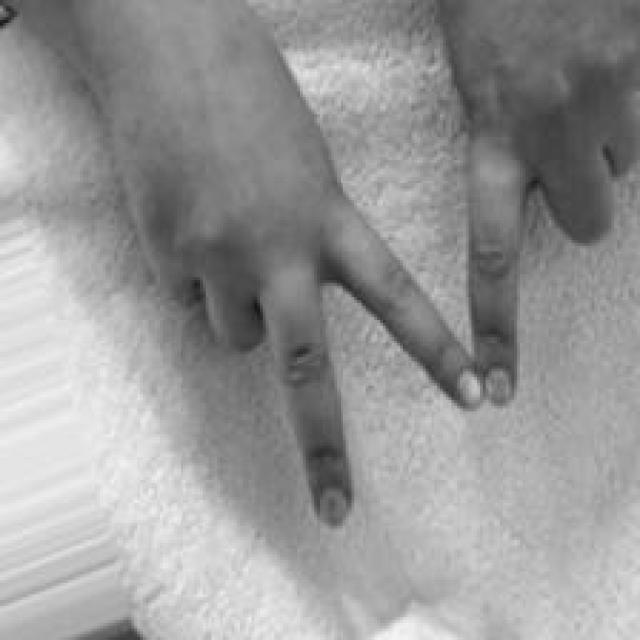N: (126, 0, 640, 536)
